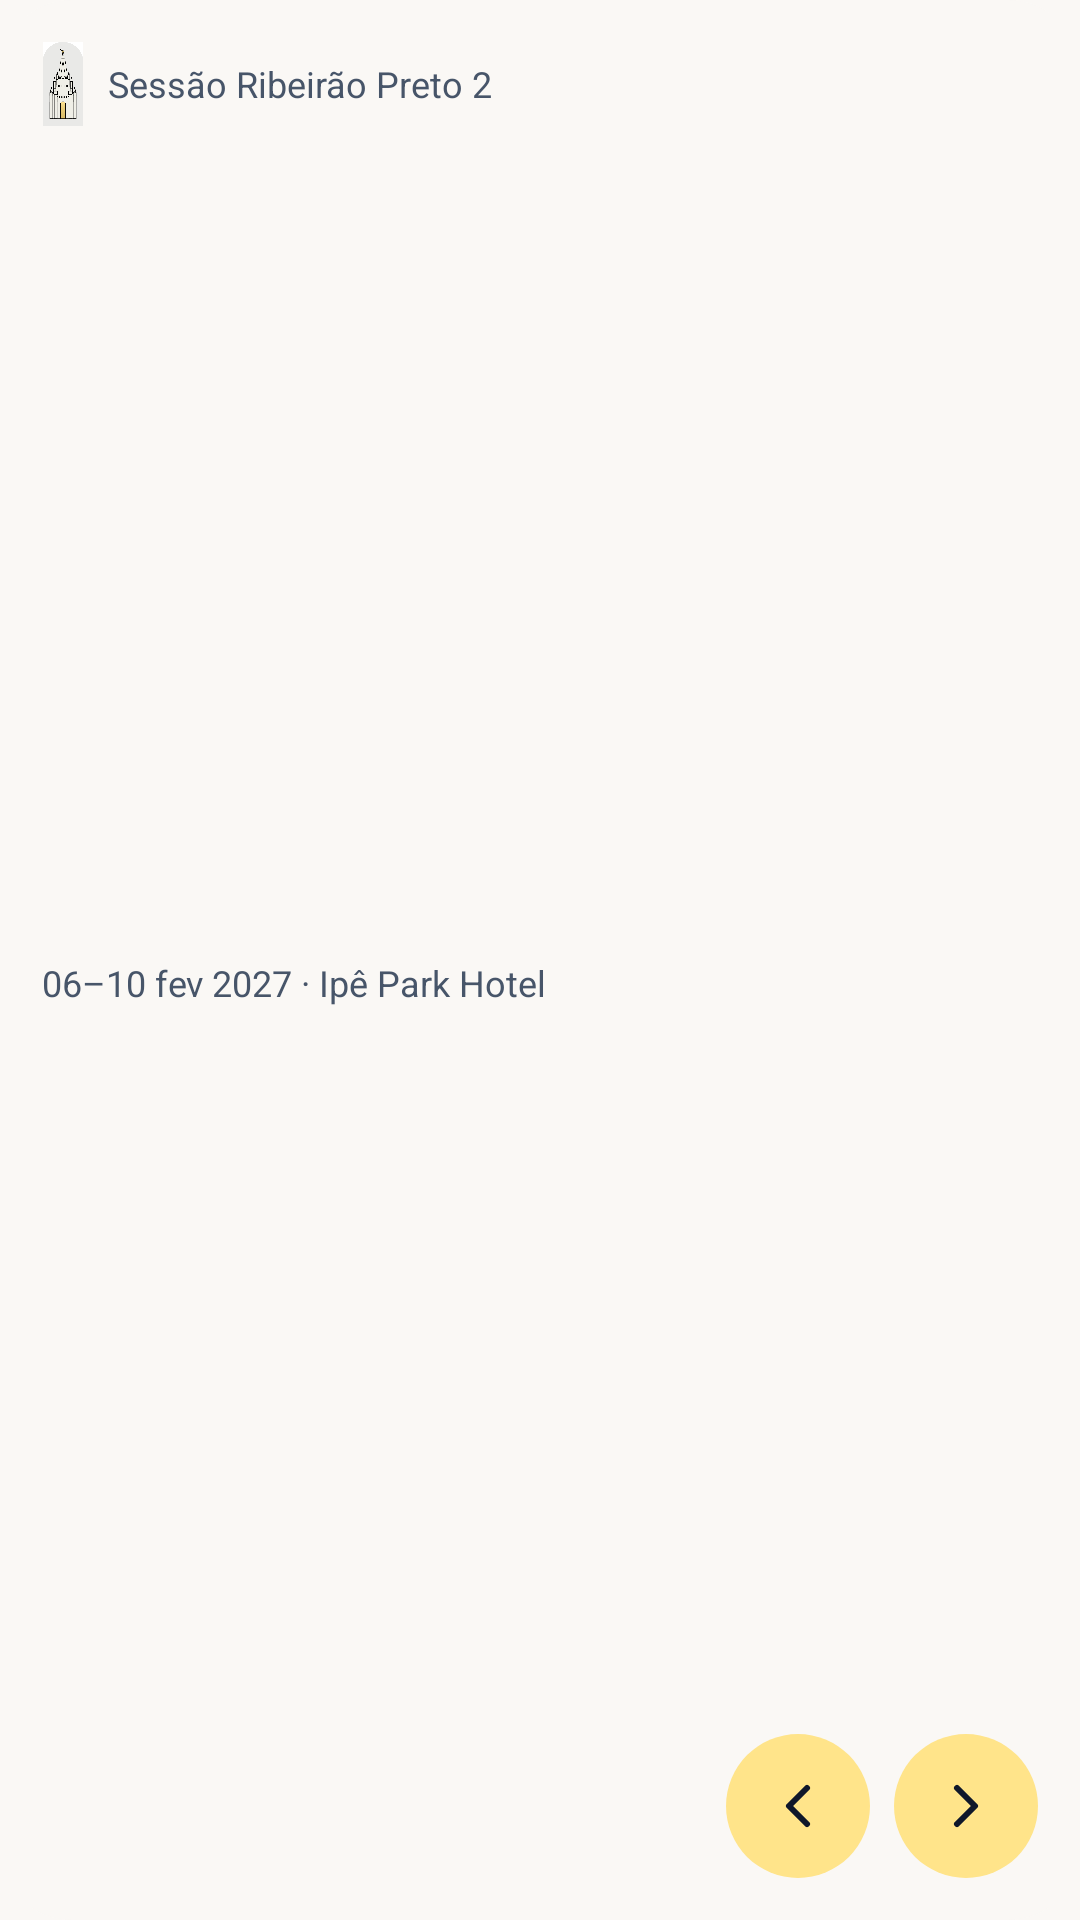

Named icons in this screenshot (1080x1920) and their bounding boxes, region(x1, y1, x2, y2):
Destaque anterior: region(726, 1734, 870, 1878)
Próximo destaque: region(894, 1734, 1038, 1878)
